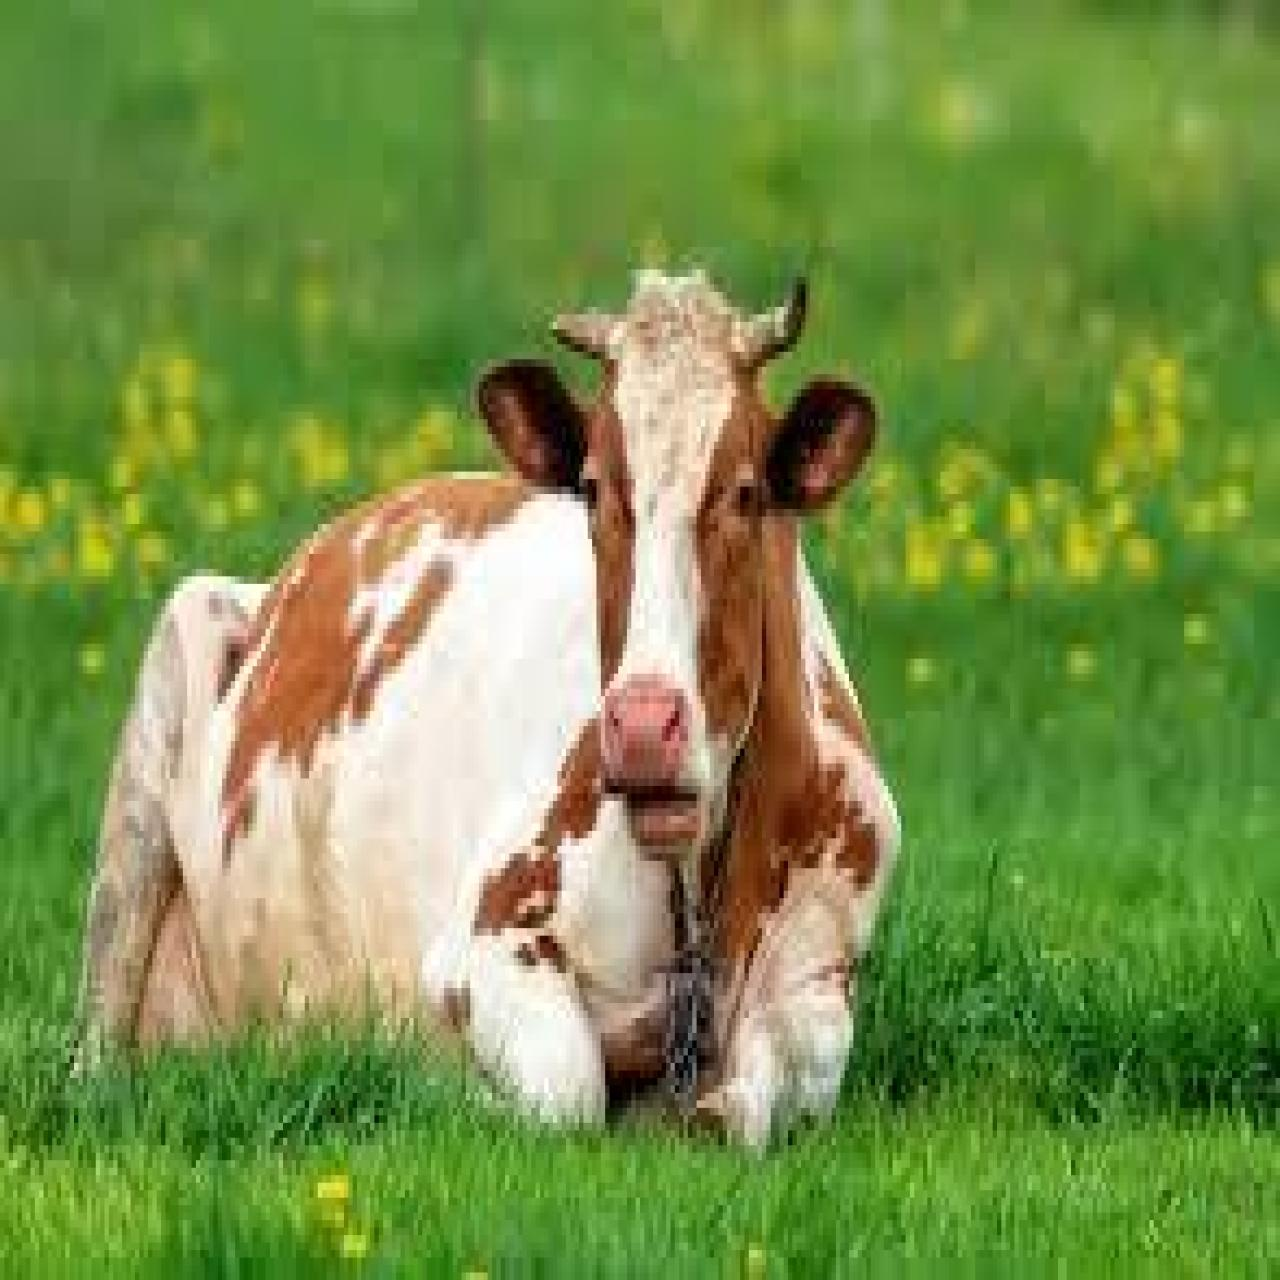cow: (83, 302, 876, 1149)
